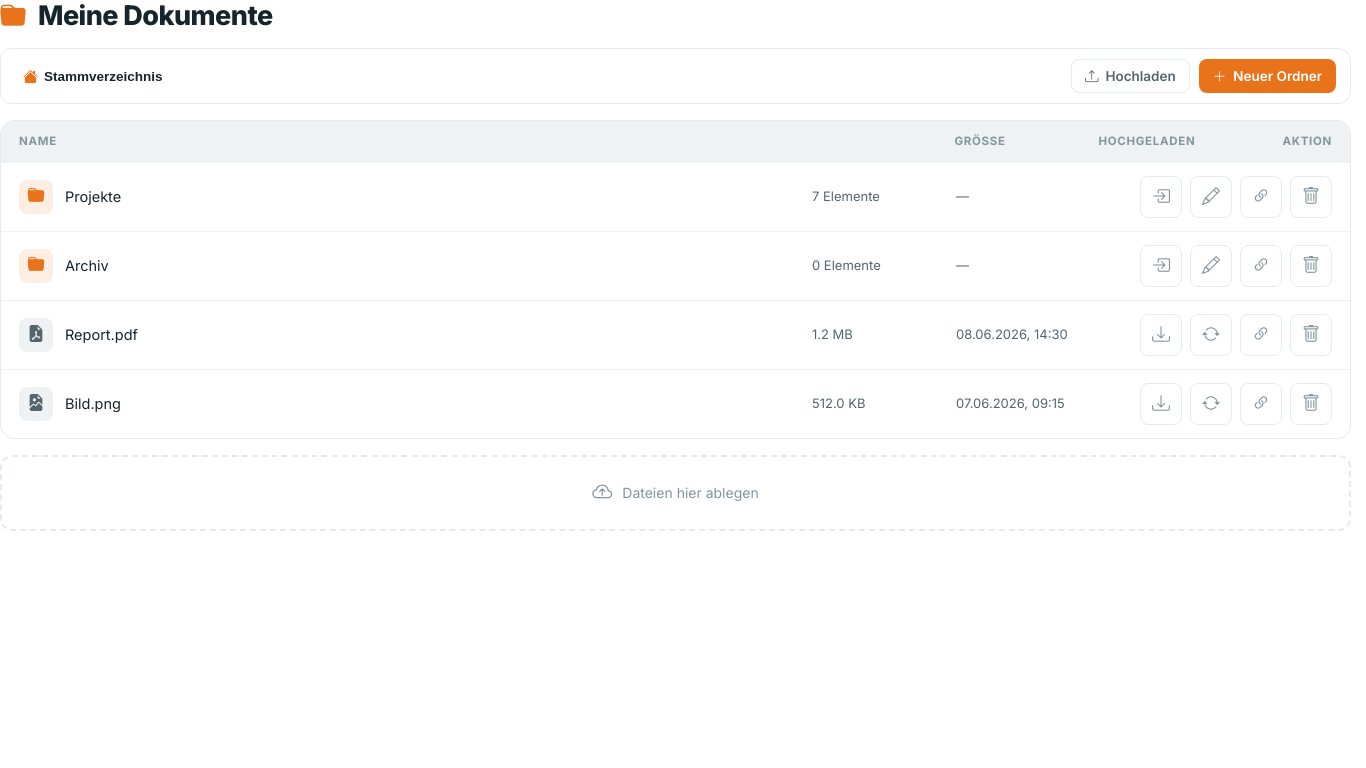
Test: PortalDocuments › Ordner-Aktionen › Given Ordner-Lösch-Dialog offen, When abgebrochen, Then Dialog geschlossen und keine API
This screenshot has width=1366, height=768.
expect the text "Projekte" is shown: met, box [65,185,121,208]
Click the button titled "Löschen" in the row of "7 Elemente": coordinates (1311, 197) [1290,176,1332,218]
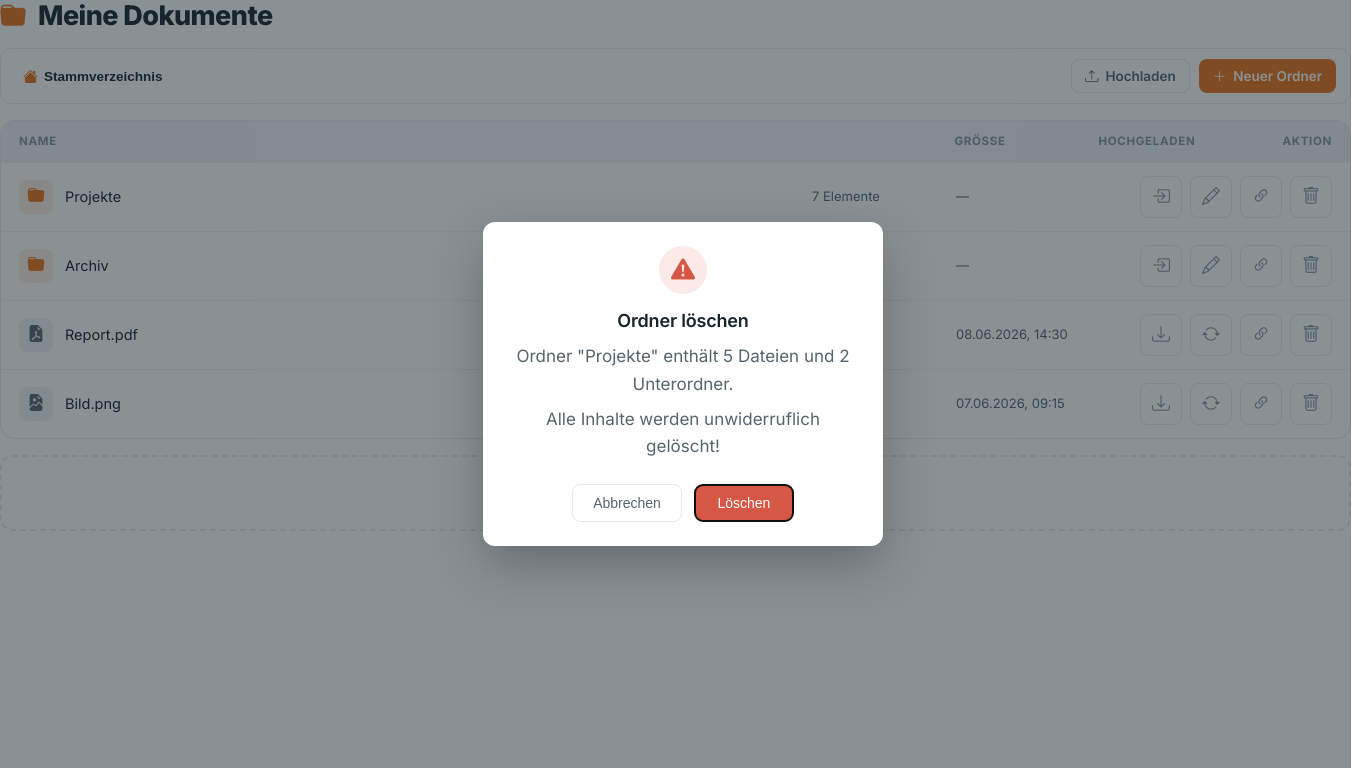
expect the dialog is shown: met, box [483,222,883,546]
# Click cancel button in dialog
Click the button with class "confirm-dialog-btn-cancel": coordinates (627, 503) [572,484,682,522]
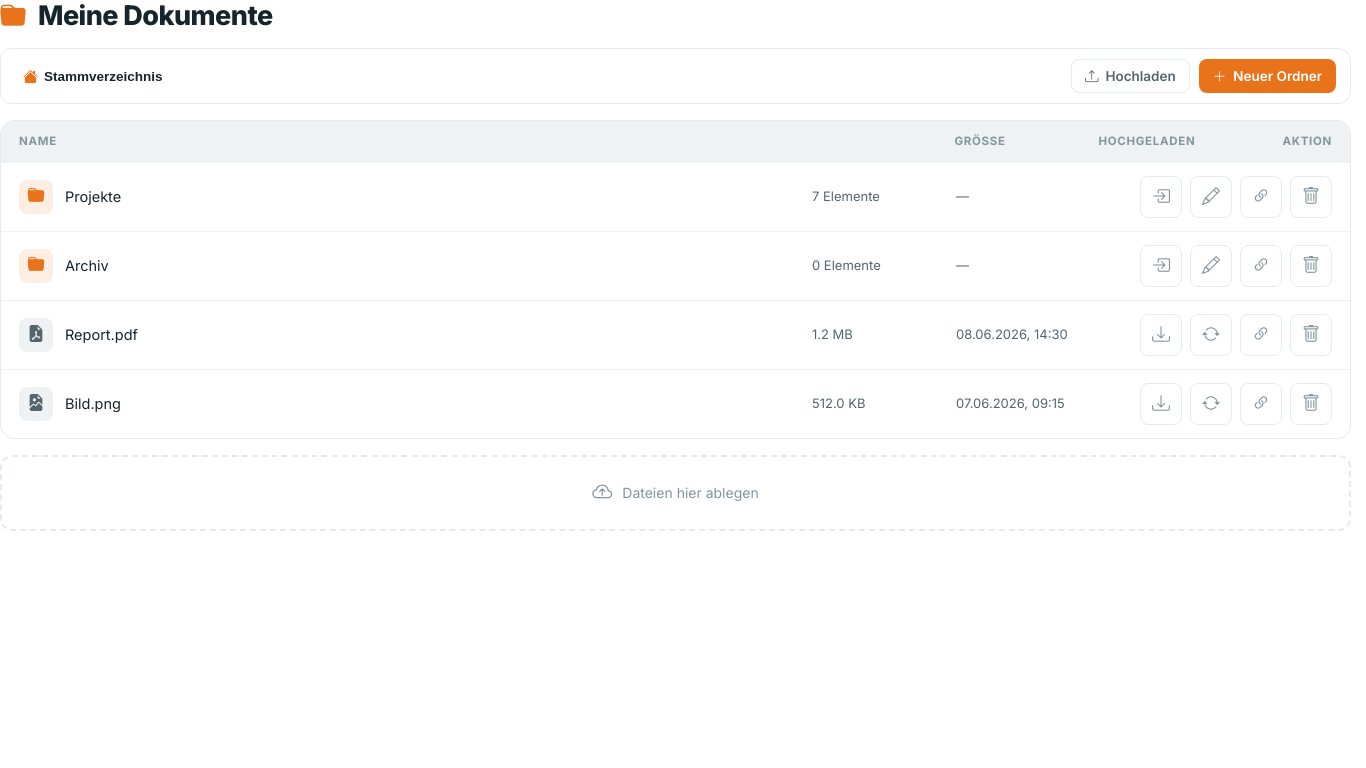
expect the dialog is gone: met
